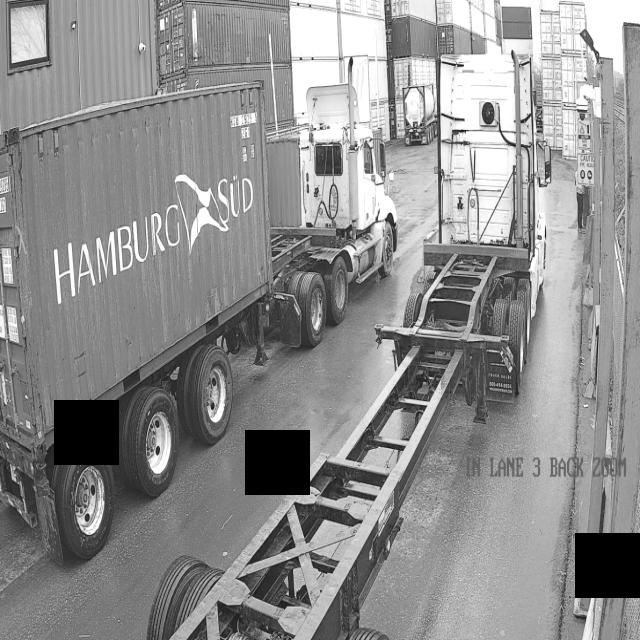container_company_logo: (49, 155, 257, 318)
truck_with_container: (0, 81, 398, 563)
truck_without_container: (146, 54, 551, 640)
